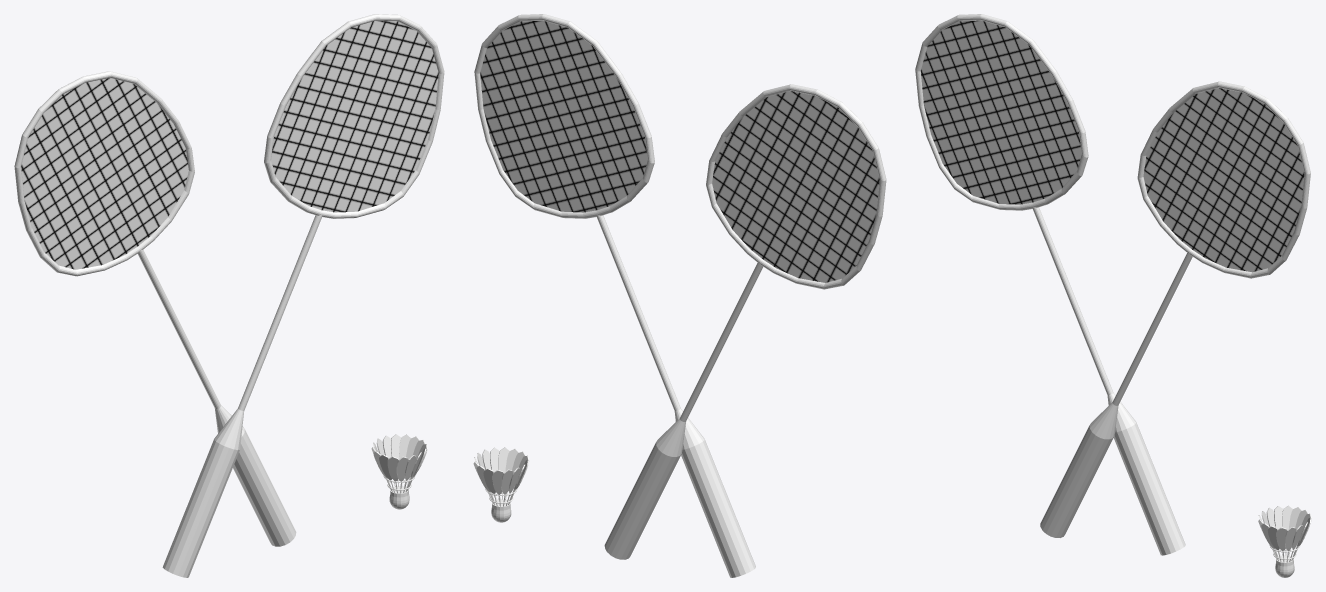
The model's file is badminton_racket_and_shuttlecock_low_poly.glb.
The picture shows the model from 3 angles, left to right: view 1: azimuth 30°, elevation 25°; view 2: azimuth 150°, elevation 25°; view 3: azimuth 330°, elevation 25°; orthographic projection. The views are drawn at different scales.
Parts seen in each view (by area): view 1: Obj_Strings, Obj_Strings.001, Obj_Racket.001, Obj_Racket, Obj_Feather; view 2: Obj_Strings, Obj_Strings.001, Obj_Racket.001, Obj_Racket, Obj_Feather; view 3: Obj_Strings.001, Obj_Strings, Obj_Racket, Obj_Racket.001, Obj_Feather.
Part boxes in pixels (box(x1,y1,x2,y2)): Obj_Strings: box(21, 78, 188, 269); Obj_Strings.001: box(271, 21, 438, 212); Obj_Racket.001: box(162, 14, 444, 577); Obj_Racket: box(14, 71, 296, 546); Obj_Feather: box(371, 434, 427, 493); Obj_Strings: box(712, 91, 879, 282); Obj_Strings.001: box(480, 21, 647, 212); Obj_Racket.001: box(474, 14, 755, 577); Obj_Racket: box(604, 84, 886, 559); Obj_Feather: box(473, 447, 529, 506); Obj_Strings.001: box(1143, 88, 1304, 272); Obj_Strings: box(920, 20, 1081, 204); Obj_Racket: box(915, 14, 1185, 555); Obj_Racket.001: box(1040, 81, 1310, 537); Obj_Feather: box(1258, 505, 1311, 562).
Size of the model in its own units: 0.5416 by 0.6338 by 0.0668.
Materials: 2 (1 with a texture image).
